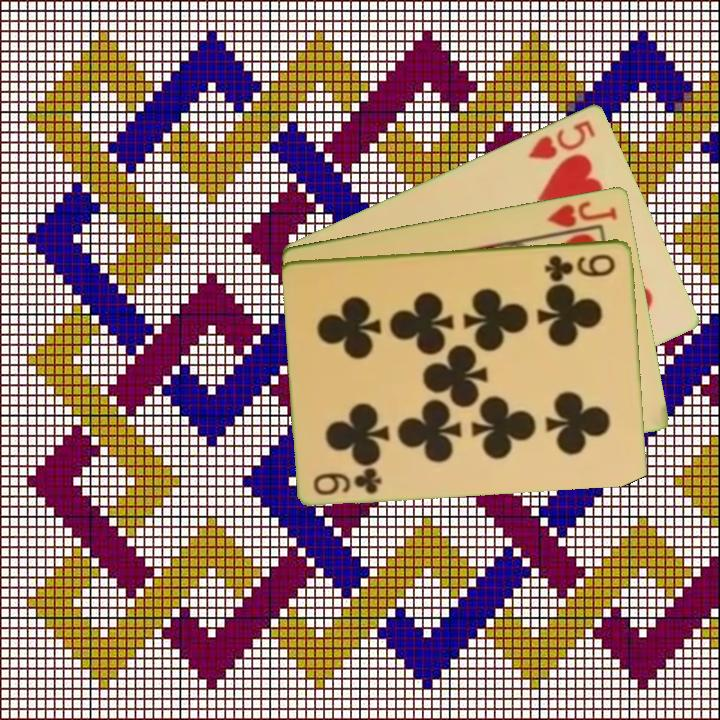5h: (525, 116, 599, 162)
9c: (310, 463, 385, 498), (541, 250, 618, 281)
Jh: (543, 197, 621, 230)
